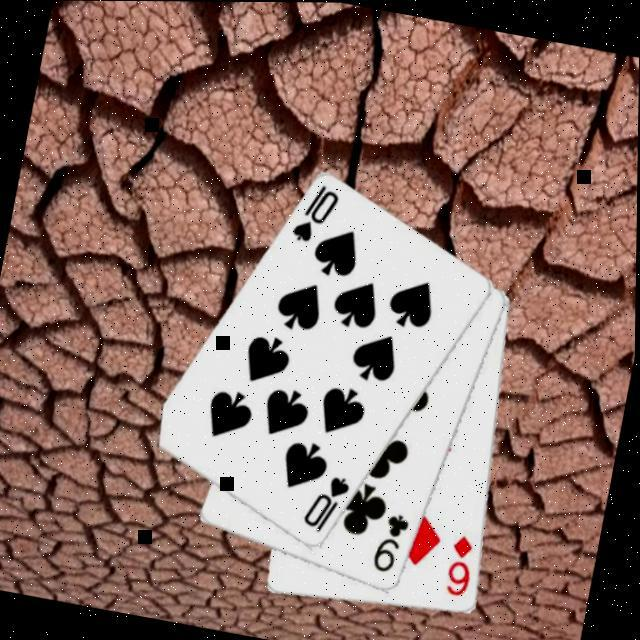10S: (288, 178, 346, 251), (299, 469, 356, 540)
6D: (442, 531, 482, 601)
9C: (369, 508, 416, 578)
